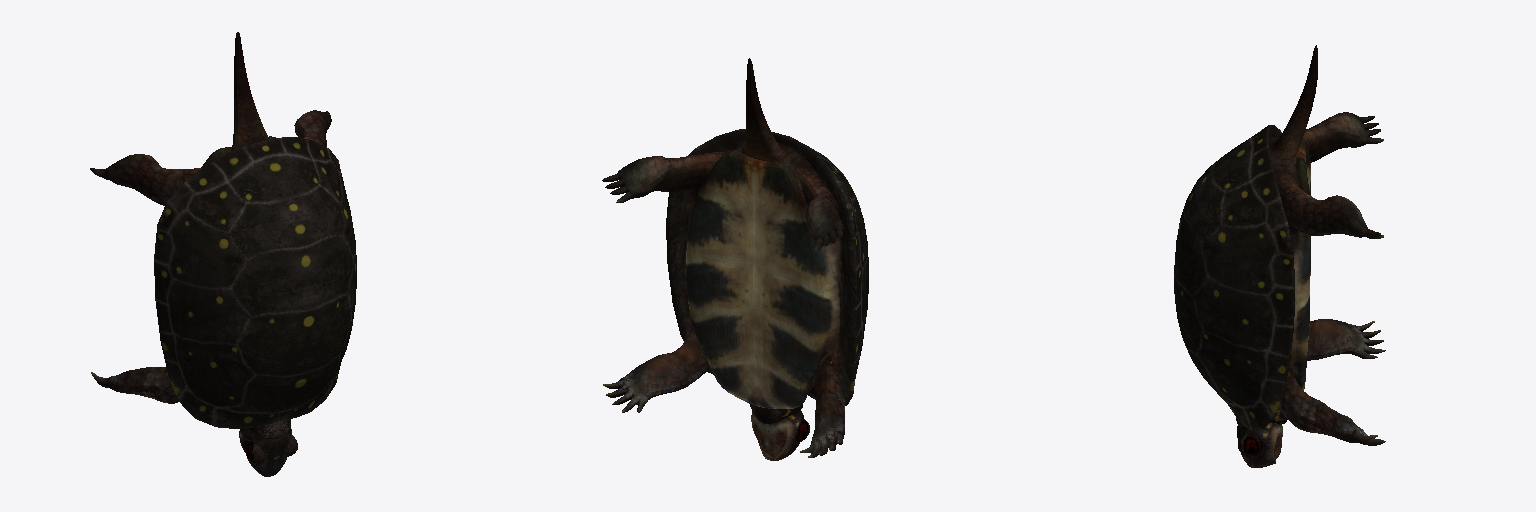
The picture shows the model from 3 angles: view 1: azimuth 30°, elevation 25°; view 2: azimuth 150°, elevation 25°; view 3: azimuth 270°, elevation 25°; orthographic projection.
Visible parts, largest first — view 1: 13101_spotturtle; view 2: 13101_spotturtle; view 3: 13101_spotturtle.
Part boxes in pixels (x1,y1,x2,y2): 13101_spotturtle: (90,32,356,476); 13101_spotturtle: (602,58,868,460); 13101_spotturtle: (1174,45,1385,467).
Bounding box in the file's own units: 10 × 16.94 × 7.7.
Materials: 1 (1 with a texture image).